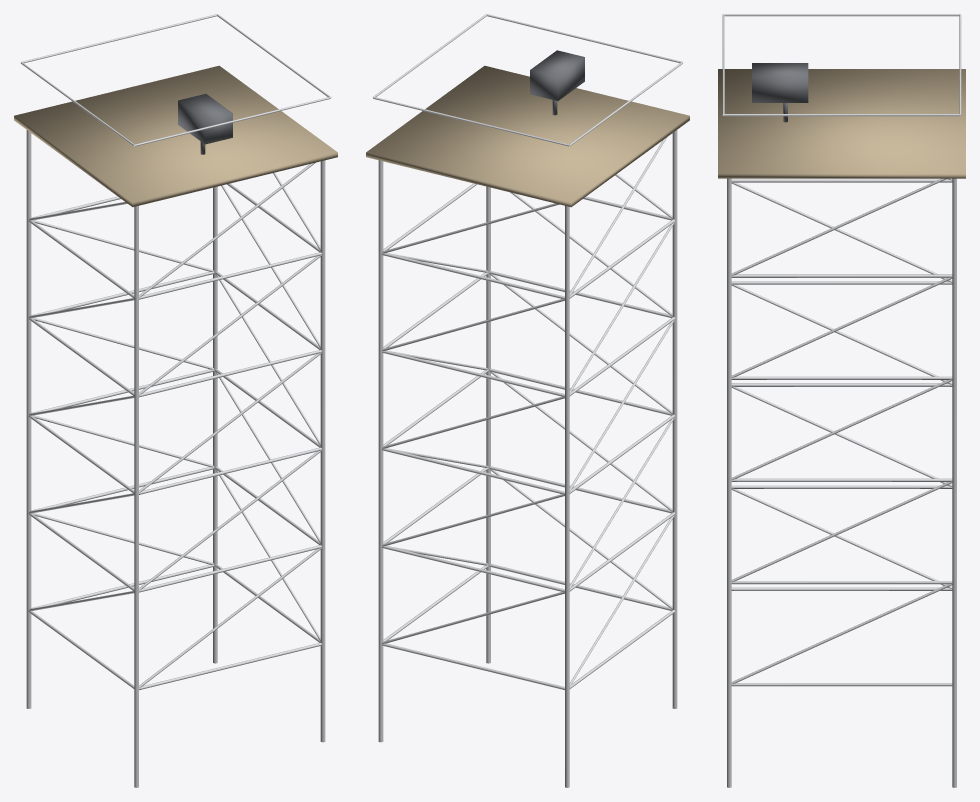
The model's file is camera_tower.glb.
3 views of the same model, side by side, from view 1: azimuth 30°, elevation 25°; view 2: azimuth 150°, elevation 25°; view 3: azimuth 270°, elevation 25° (orthographic). The views are drawn at different scales.
Visible parts, largest first — view 1: camera_tower; view 2: camera_tower; view 3: camera_tower.
Part boxes in pixels (x1,y1,x2,y2): camera_tower: [14, 14, 337, 787]; camera_tower: [366, 14, 689, 787]; camera_tower: [718, 14, 965, 787].
Bounding box in the file's own units: 4.4 × 13.22 × 4.4.
